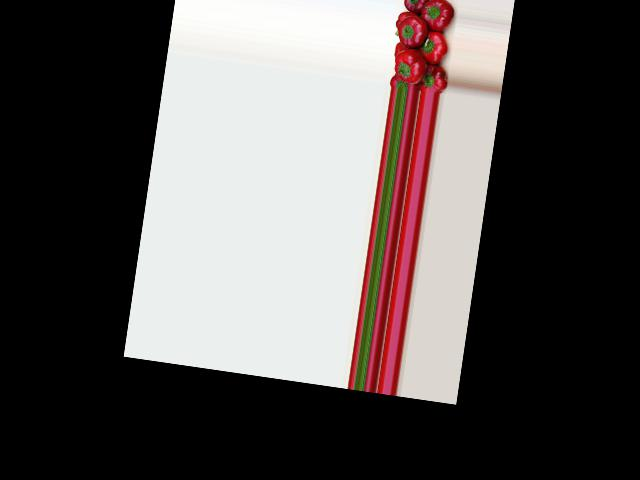bell_pepper: (392, 41, 407, 56)
